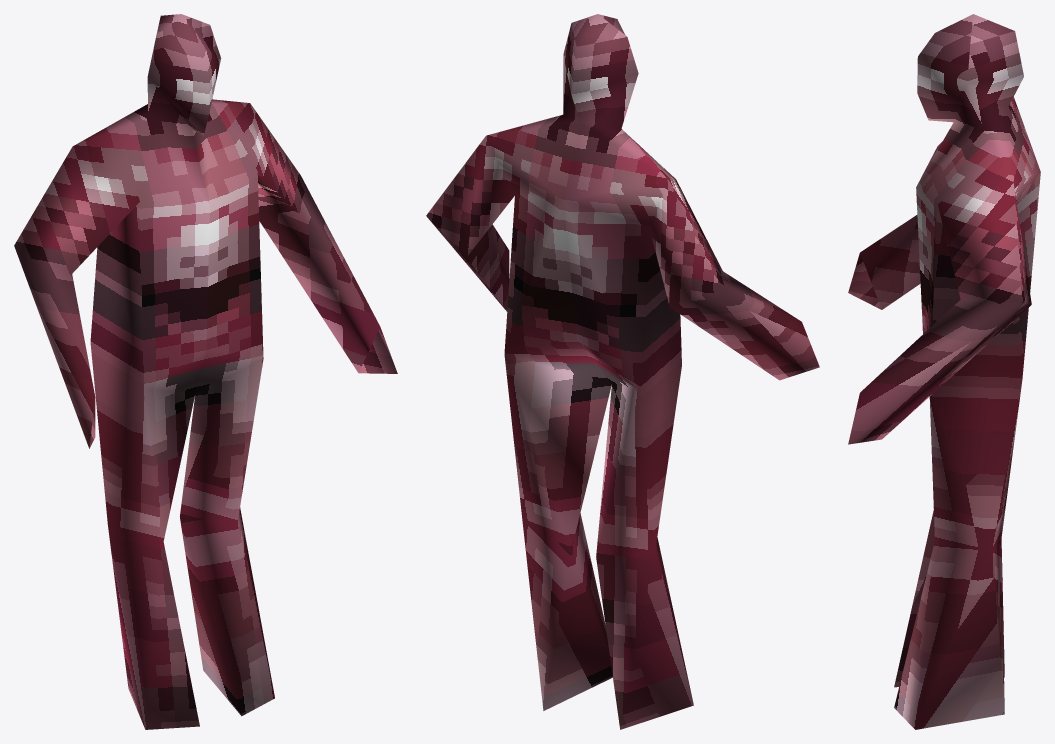
Rendered from protocol_droid_red_l3.fbx.
3 renders of one model, left to right at view 1: azimuth 30°, elevation 25°; view 2: azimuth 150°, elevation 25°; view 3: azimuth 270°, elevation 25°, orthographic. The views are drawn at different scales.
Parts seen in each view (by area): view 1: mesh_node; view 2: mesh_node; view 3: mesh_node.
Part boxes in pixels (x1,y1,x2,y2): mesh_node: (14, 14, 397, 729); mesh_node: (426, 14, 819, 729); mesh_node: (848, 14, 1040, 729).
Size of the model in its own units: 0.8805 by 1.85 by 0.473.
